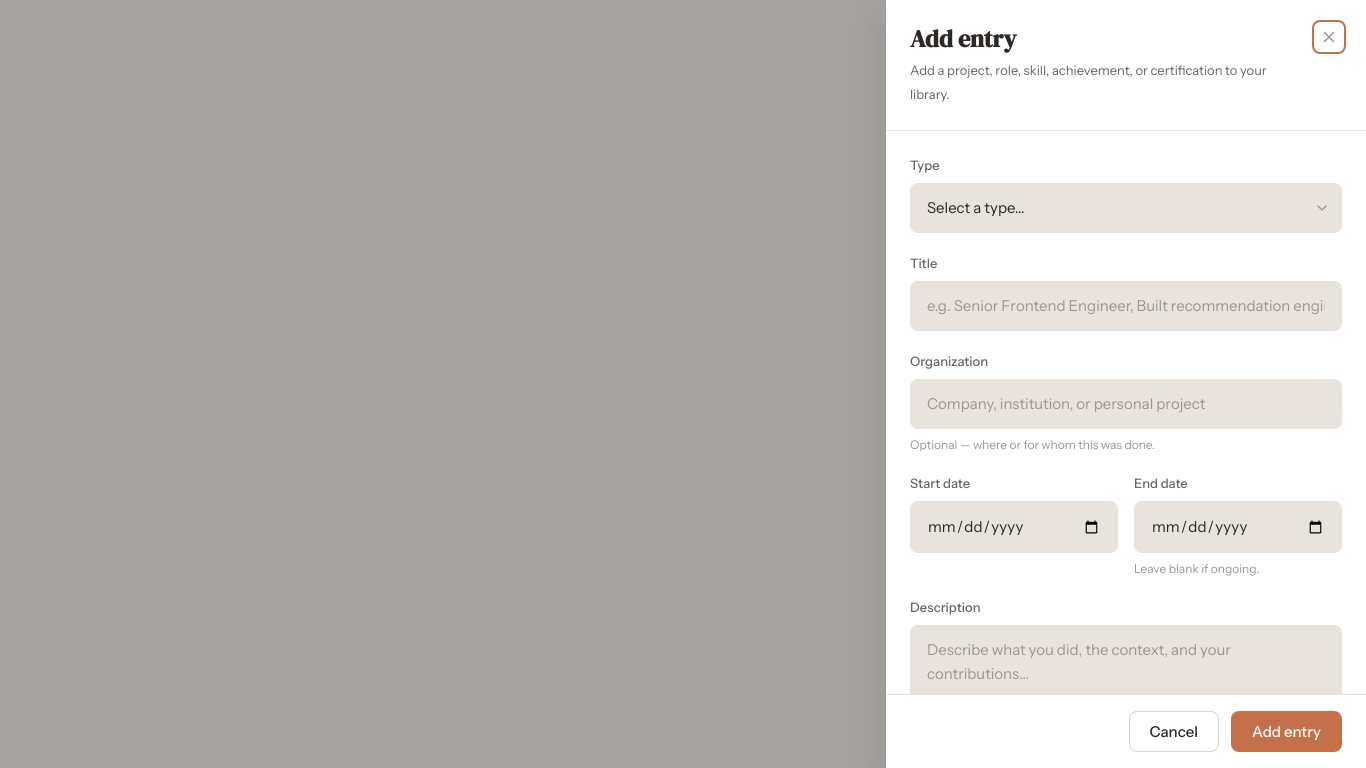
Test: ExperienceForm › shows validation error when type is not selected
The image size is (1366, 768).
Type "My Entry" into the field labelled "Title" at point(1126, 306), box 910,281 -> 1342,331
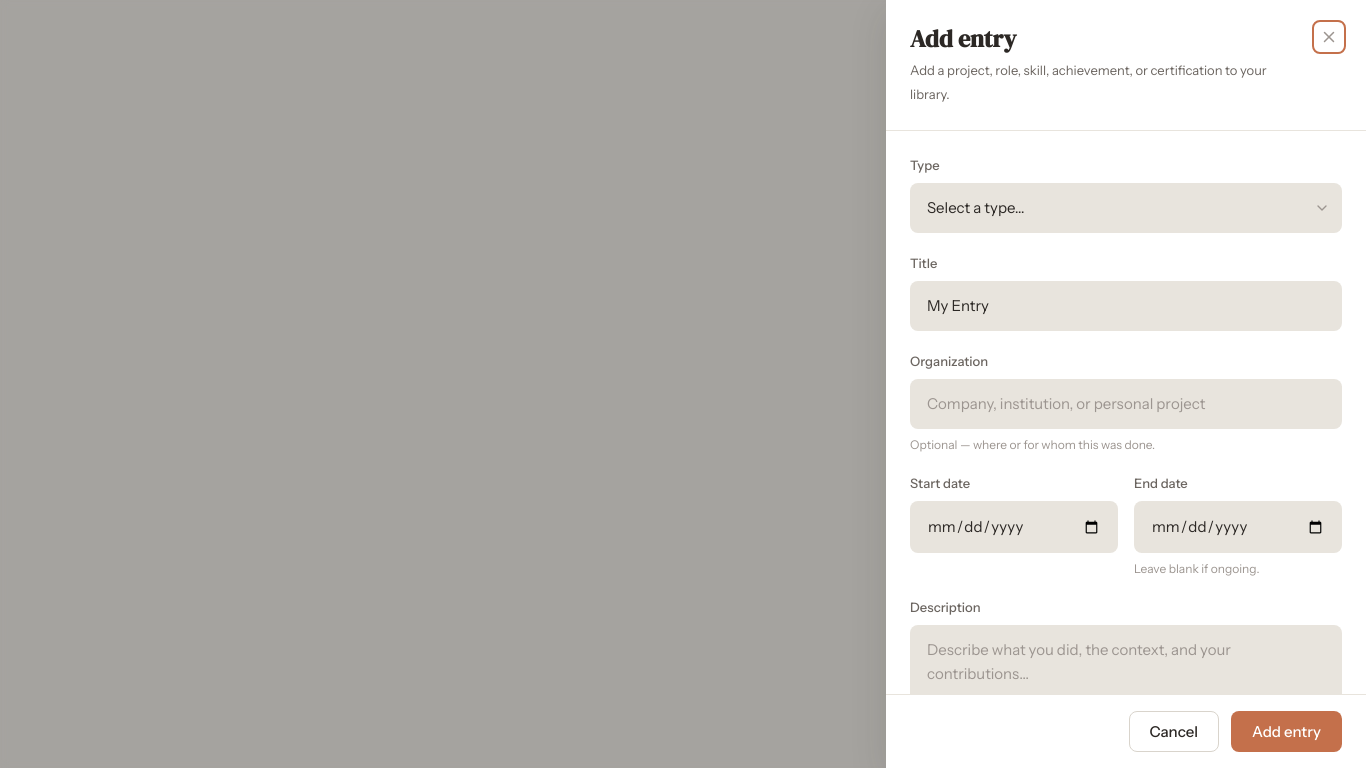
Click the button "Add entry" at point(1287, 732), box 1231,711 -> 1342,752
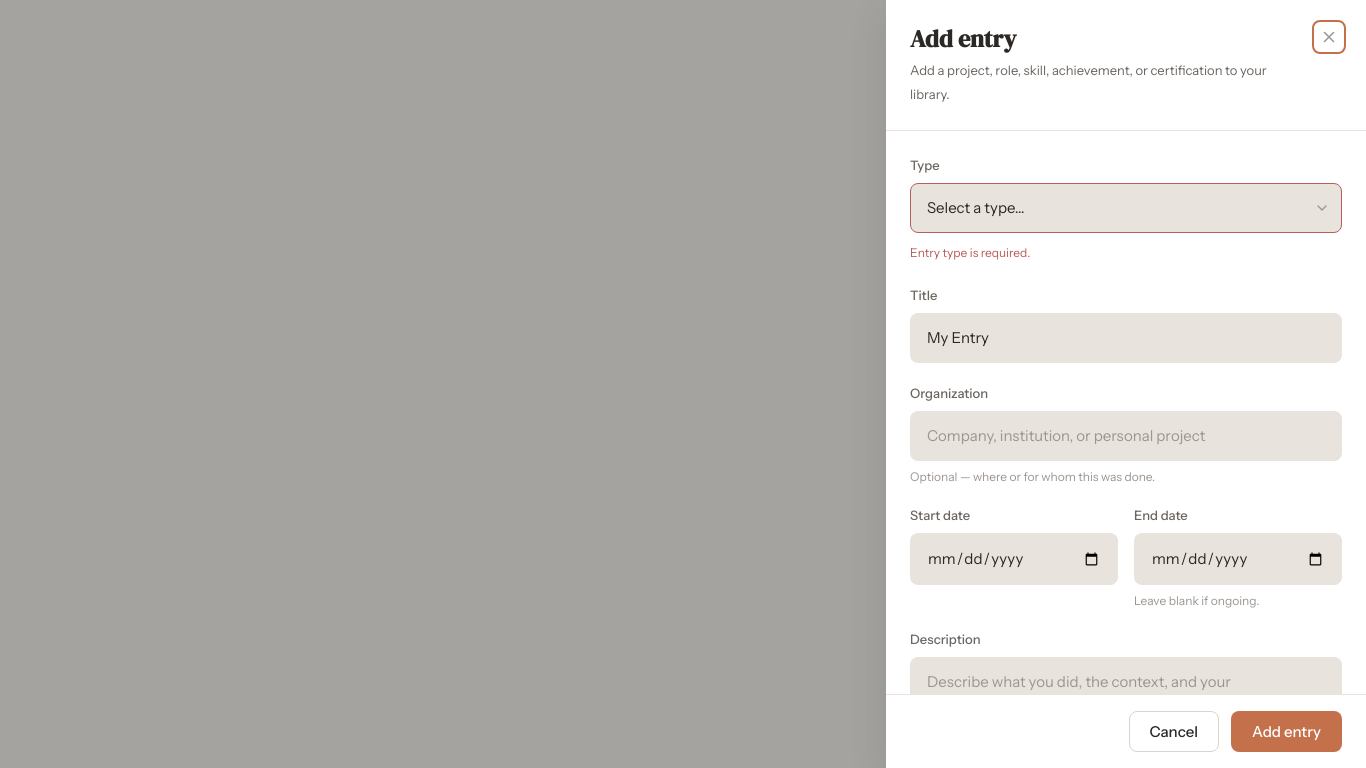
Check: the message reads "Entry type is required.", box 910,245 -> 1030,260
